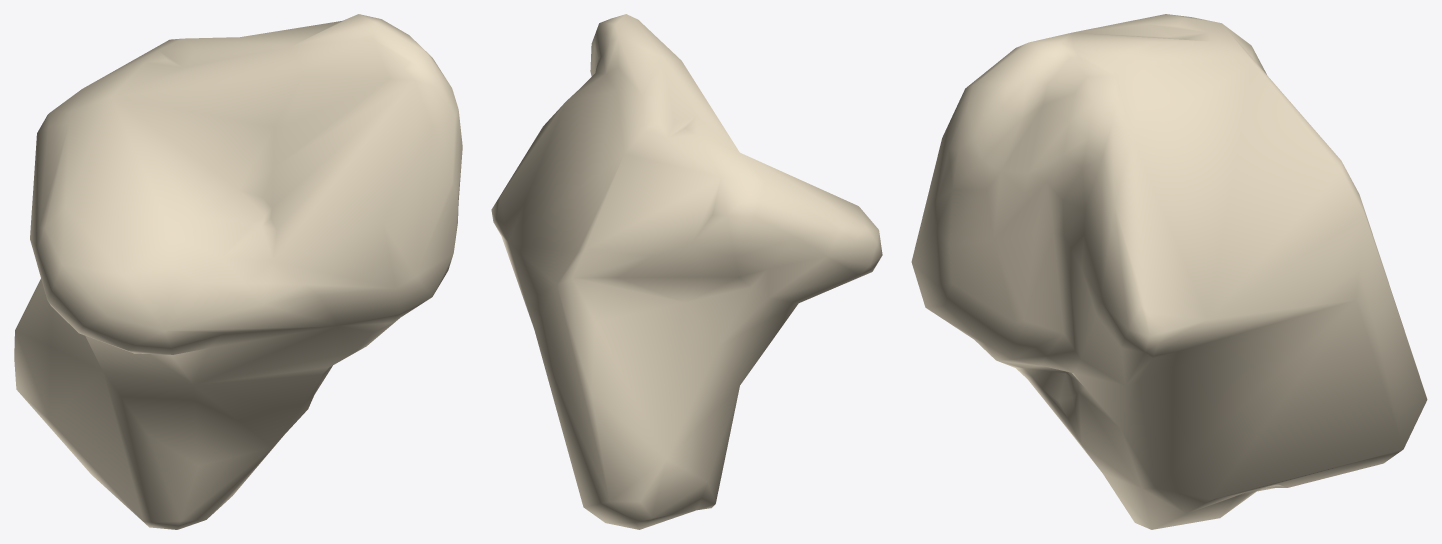
Rendered from trapezium-bone-r.glb.
3 views of the same model, side by side, from view 1: azimuth 30°, elevation 25°; view 2: azimuth 150°, elevation 25°; view 3: azimuth 270°, elevation 25° (orthographic). The views are drawn at different scales.
Visible parts, largest first — view 1: Trapezium bone.r; view 2: Trapezium bone.r; view 3: Trapezium bone.r.
Part boxes in pixels (x1=…): Trapezium bone.r: x1=14, y1=14, x2=462, y2=529; Trapezium bone.r: x1=491, y1=14, x2=882, y2=529; Trapezium bone.r: x1=911, y1=14, x2=1427, y2=529.
Size of the model in its own units: 0.0177 by 0.0208 by 0.0175.
